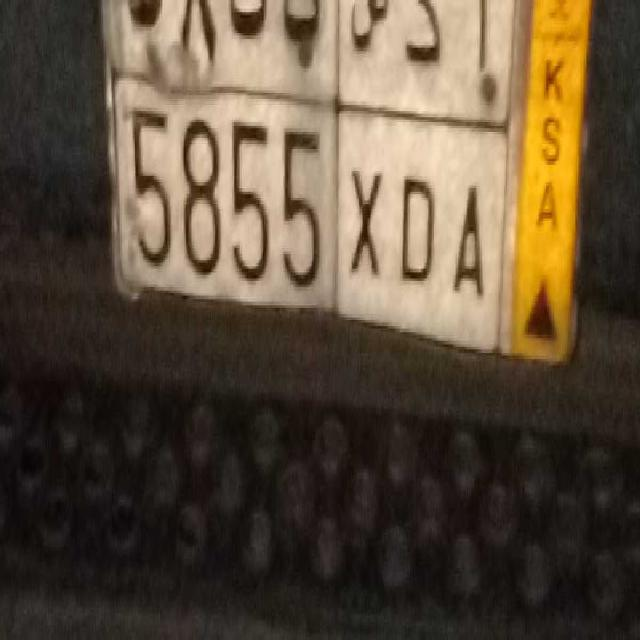license_plate: (116, 57, 496, 330)
